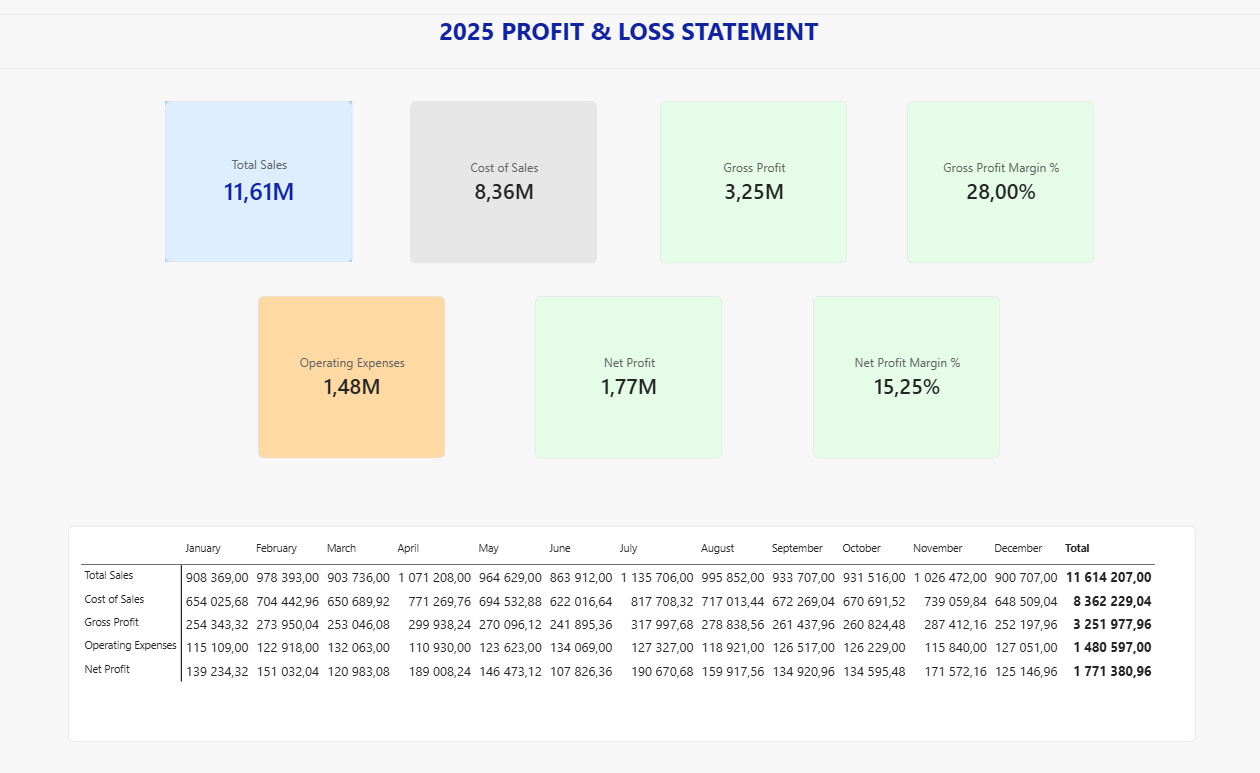

The page's visual inventory and layout, read from the dashboard file:
{"tool":"powerbi","page":{"name":"2025 Profit & Loss","canvas":[1920,1080],"ordinal":2},"visuals":[{"type":"cardVisual","fields":{"Data":["financial_ledger_2025.Total Sales"]},"box":[339.2,145.1,249.4,214],"z":0},{"type":"cardVisual","fields":{"Data":["financial_ledger_2025.Cost of Sales"]},"box":[665.6,145.1,249.4,216.1],"z":1000},{"type":"cardVisual","fields":{"Data":["financial_ledger_2025.Gross Profit"]},"box":[997.4,145.1,249.4,216.1],"z":2000},{"type":"cardVisual","fields":{"Data":["financial_ledger_2025.Gross Profit Margin %"]},"box":[1326.5,145.1,249.4,216.1],"z":3000},{"type":"cardVisual","fields":{"Data":["financial_ledger_2025.Operating Expenses"]},"box":[462.7,404.5,249.4,216.1],"z":4000},{"type":"cardVisual","fields":{"Data":["financial_ledger_2025.Net Profit"]},"box":[830.9,404.5,249.4,216.1],"z":5000},{"type":"cardVisual","fields":{"Data":["financial_ledger_2025.Net Profit Margin %"]},"box":[1201.2,404.5,249.4,216.1],"z":6000},{"type":"pivotTable","fields":{"Columns":["financial_ledger_2025.Date.Variation.Date Hierarchy.Month"],"Values":["financial_ledger_2025.Total Sales","financial_ledger_2025.Cost of Sales","financial_ledger_2025.Gross Profit","financial_ledger_2025.Operating Expenses","financial_ledger_2025.Net Profit"]},"box":[209.9,710.6,1500.3,286.8],"z":7000},{"type":"textbox","box":[0,29.1,1920,72.7],"z":8000}]}

Visuals, with their boxes on the page's 1920x1080 design canvas (x1, y1, x2, y2). These are canvas units, not pixel positions in the 1260x773 screenshot, which may show the page scaled, cropped or inside an application window:
cardVisual - financial_ledger_2025.Total Sales: x1=339, y1=145, x2=589, y2=359
cardVisual - financial_ledger_2025.Cost of Sales: x1=666, y1=145, x2=915, y2=361
cardVisual - financial_ledger_2025.Gross Profit: x1=997, y1=145, x2=1247, y2=361
cardVisual - financial_ledger_2025.Gross Profit Margin %: x1=1326, y1=145, x2=1576, y2=361
cardVisual - financial_ledger_2025.Operating Expenses: x1=463, y1=404, x2=712, y2=621
cardVisual - financial_ledger_2025.Net Profit: x1=831, y1=404, x2=1080, y2=621
cardVisual - financial_ledger_2025.Net Profit Margin %: x1=1201, y1=404, x2=1451, y2=621
pivotTable - financial_ledger_2025.Date.Variation.Date Hierarchy.Month x financial_ledger_2025.Total Sales: x1=210, y1=711, x2=1710, y2=997
textbox: x1=0, y1=29, x2=1920, y2=102
